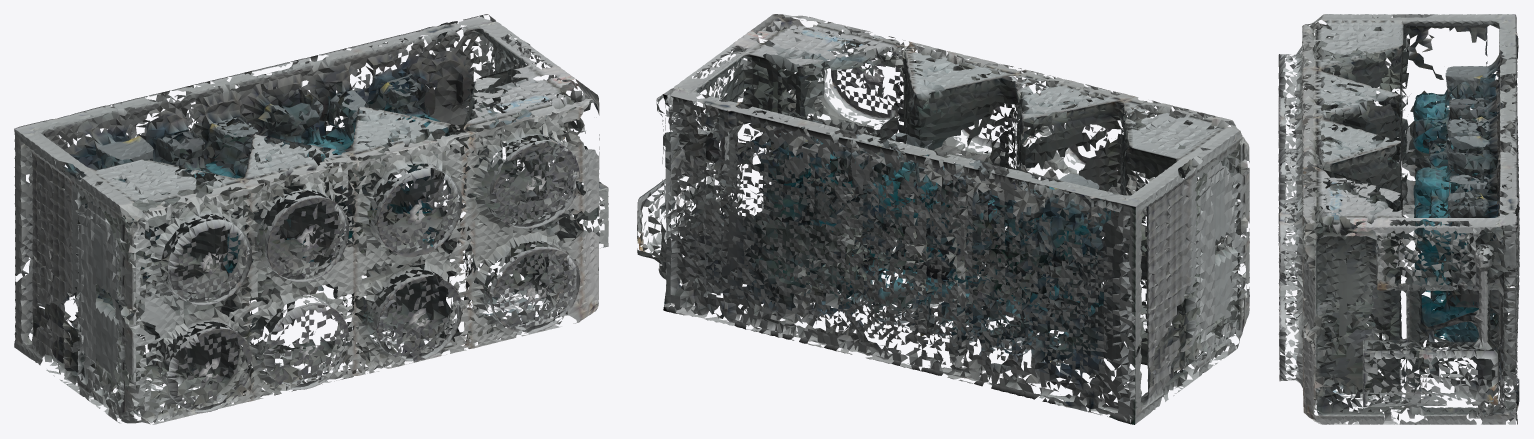
Rendered from chiller_rgb_alpha.glb.
3 renders of one model, left to right at view 1: azimuth 30°, elevation 25°; view 2: azimuth 150°, elevation 25°; view 3: azimuth 270°, elevation 25°, orthographic. The views are drawn at different scales.
Visible parts, largest first — view 1: world; view 2: world; view 3: world.
Part boxes in pixels (x1,y1,x2,y2): world: (14, 14, 608, 424); world: (637, 14, 1249, 424); world: (1278, 14, 1519, 424).
Bounding box in the file's own units: 0.9937 × 0.4083 × 0.445.
